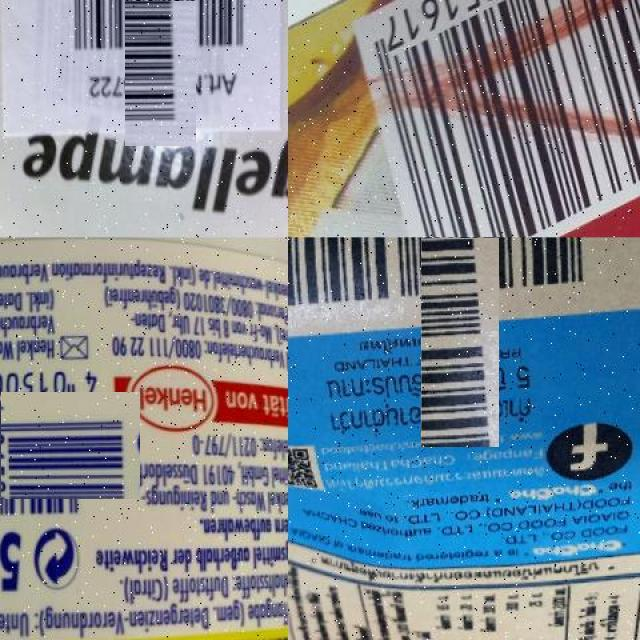Barcode: (348, 0, 640, 238), (354, 171, 565, 381), (0, 376, 124, 516), (87, 0, 234, 109)
